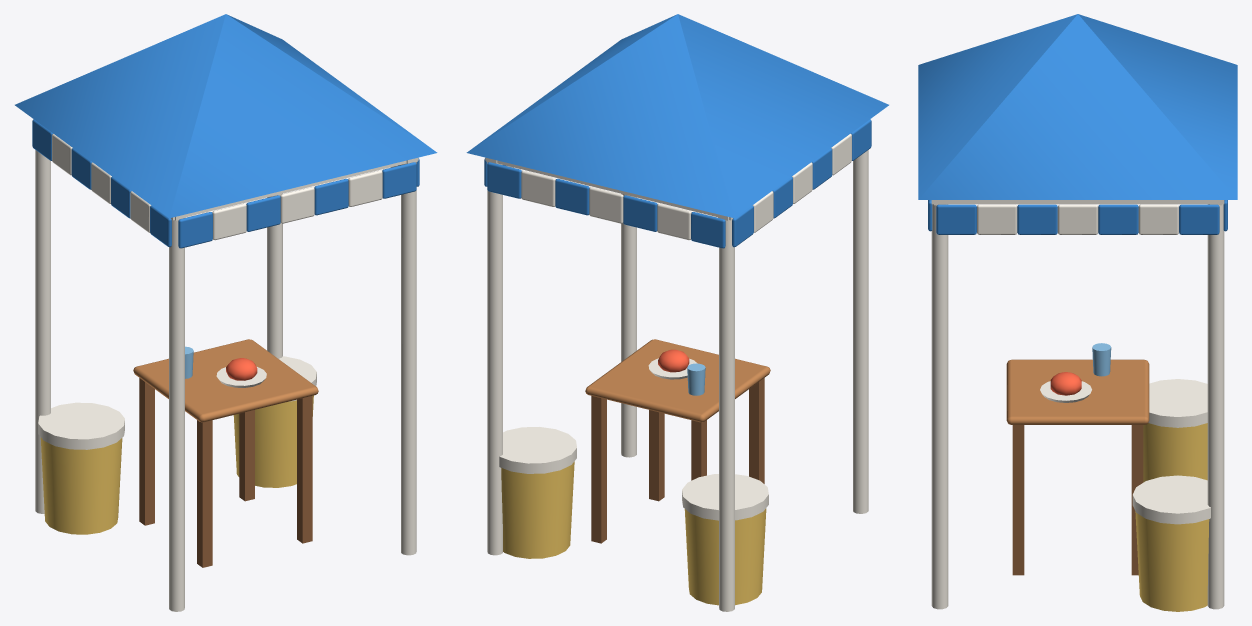
Rendered from parasol-canopy.glb.
3 renders of one model, left to right at view 1: azimuth 30°, elevation 25°; view 2: azimuth 150°, elevation 25°; view 3: azimuth 270°, elevation 25°, orthographic. The views are drawn at different scales.
Bounding box in the file's own units: 1.34 × 2.47 × 1.34.
